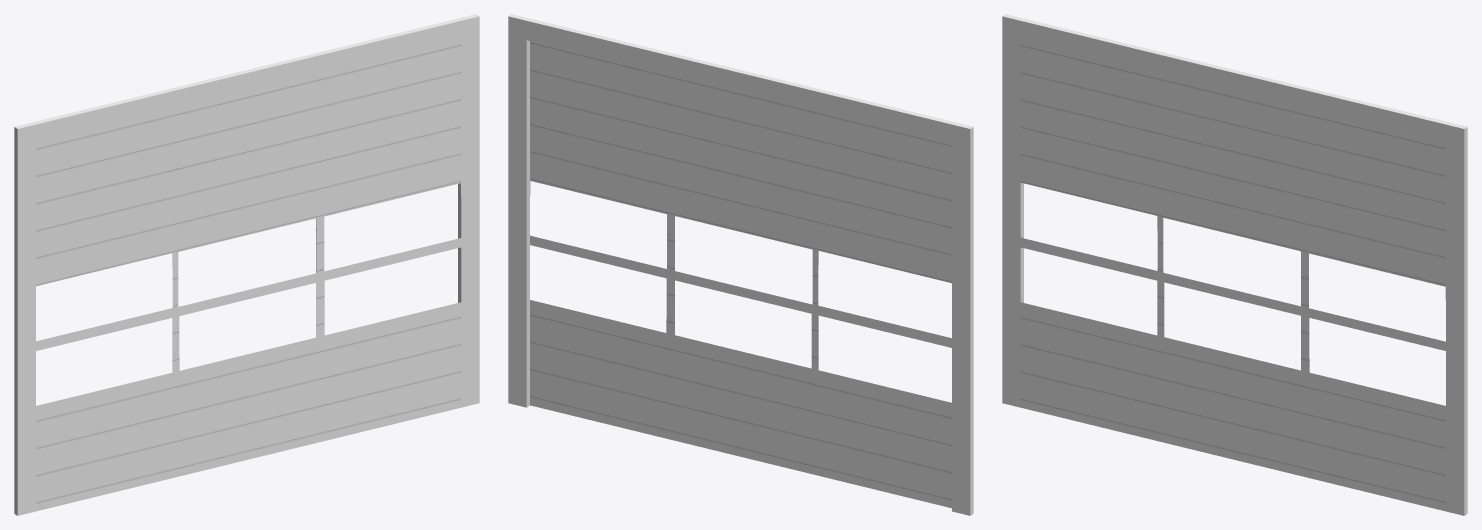
Rendered from gate_half_glass.glb.
3 renders of one model, left to right at view 1: azimuth 30°, elevation 25°; view 2: azimuth 150°, elevation 25°; view 3: azimuth 330°, elevation 25°, orthographic.
Parts seen in each view (by area): view 1: 3DGeom-1, 3DGeom-2; view 2: 3DGeom-1, 3DGeom-2; view 3: 3DGeom-1, 3DGeom-2.
Part boxes in pixels (left/top/right/bottom): 3DGeom-1: left=36, top=40, right=461, bottom=511; 3DGeom-2: left=14, top=14, right=479, bottom=515; 3DGeom-1: left=530, top=41, right=951, bottom=508; 3DGeom-2: left=508, top=14, right=973, bottom=515; 3DGeom-1: left=1020, top=40, right=1445, bottom=511; 3DGeom-2: left=1002, top=14, right=1467, bottom=515.
Size of the model in its own units: 2.5 by 2 by 0.0306.
Materials: 2 (1 with a texture image).
